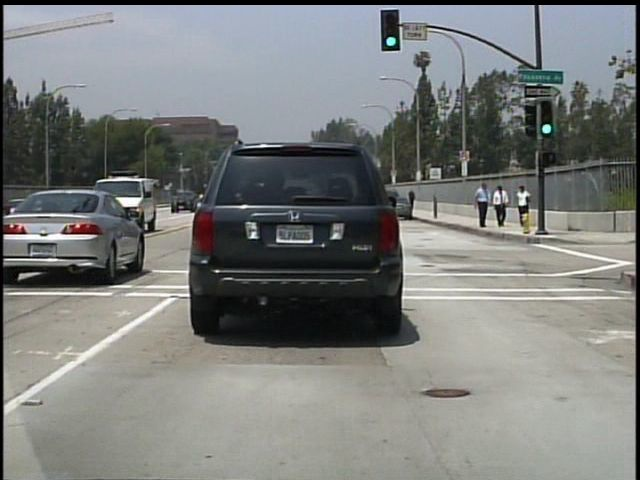person: (474, 179, 493, 231), (494, 183, 512, 228), (515, 183, 532, 215), (408, 188, 420, 211)
